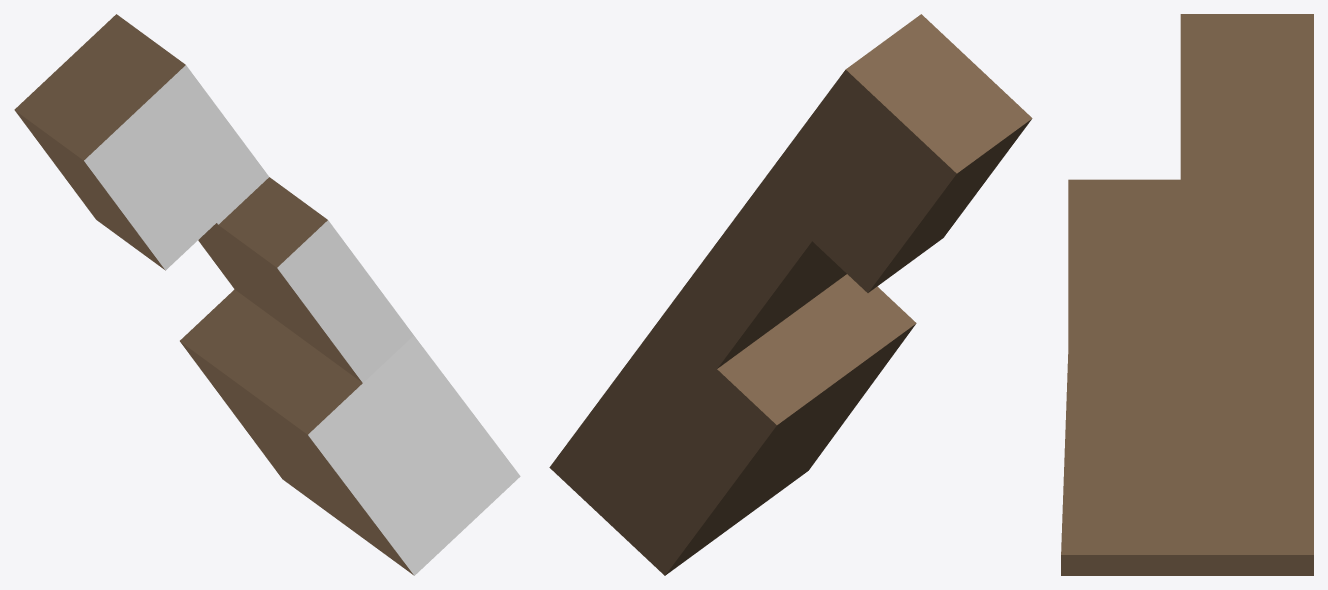
The picture shows the model from 3 angles, left to right: view 1: azimuth 30°, elevation 25°; view 2: azimuth 150°, elevation 25°; view 3: azimuth 270°, elevation 25°; orthographic projection. The views are drawn at different scales.
Parts seen in each view (by area): view 1: City_2316467; view 2: City_2316467; view 3: City_2316467.
Part boxes in pixels (x1,y1,x2,y2): City_2316467: [14, 14, 520, 575]; City_2316467: [549, 14, 1032, 575]; City_2316467: [1061, 14, 1313, 575].
Size of the model in its own units: 2280 by 2945 by 1393.
